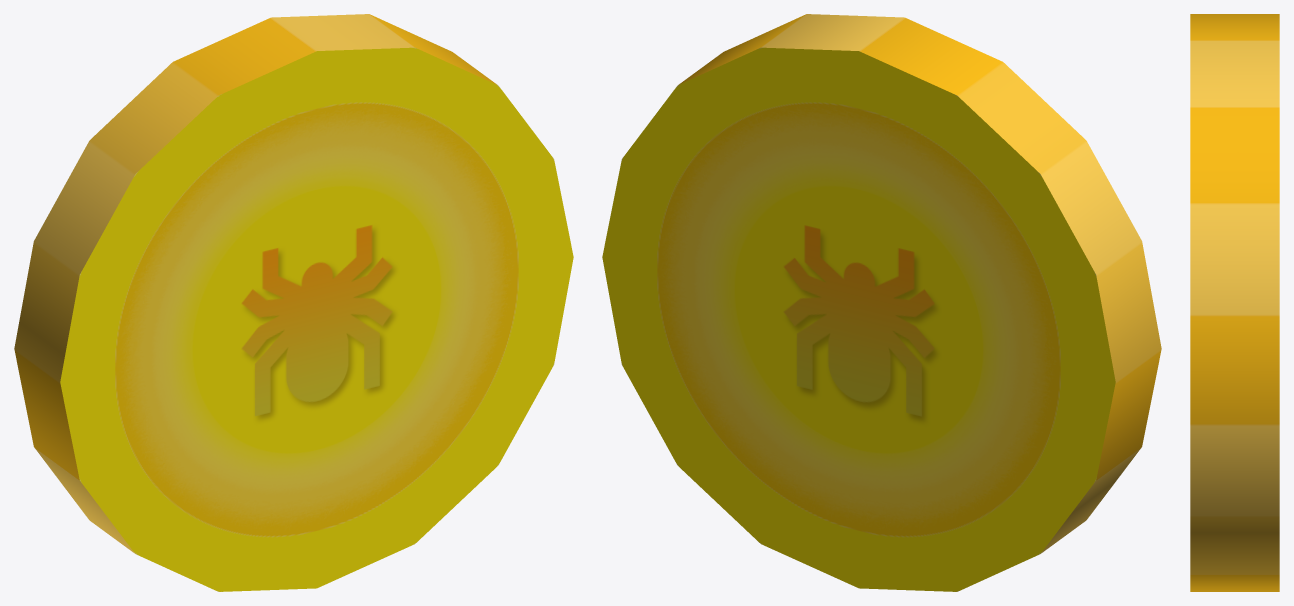
3 views of the same model, side by side, from view 1: azimuth 30°, elevation 25°; view 2: azimuth 150°, elevation 25°; view 3: azimuth 270°, elevation 25° (orthographic). The views are drawn at different scales.
Visible parts, largest first — view 1: Цилиндр; view 2: Цилиндр; view 3: Цилиндр.
Part boxes in pixels (x1,y1,x2,y2): Цилиндр: [14, 14, 573, 591]; Цилиндр: [602, 14, 1161, 591]; Цилиндр: [1190, 14, 1279, 591].
Bounding box in the file's own units: 100 × 100 × 15.49.
2 materials, 2 textured.
